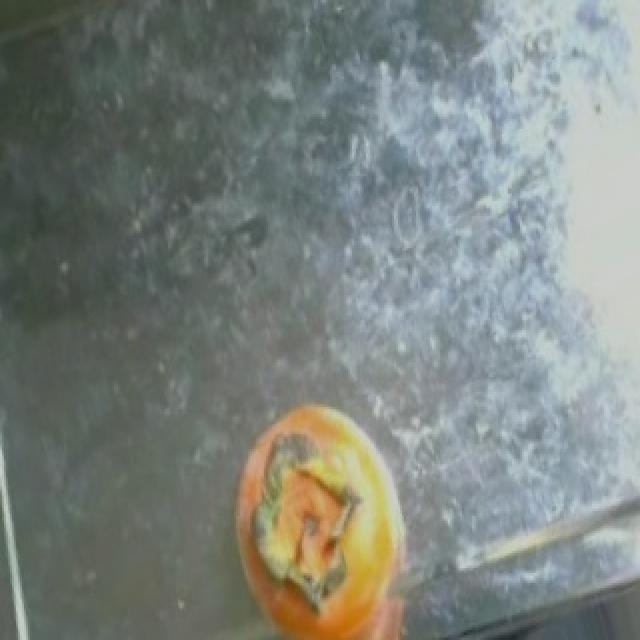Fruit: (214, 384, 432, 638)
